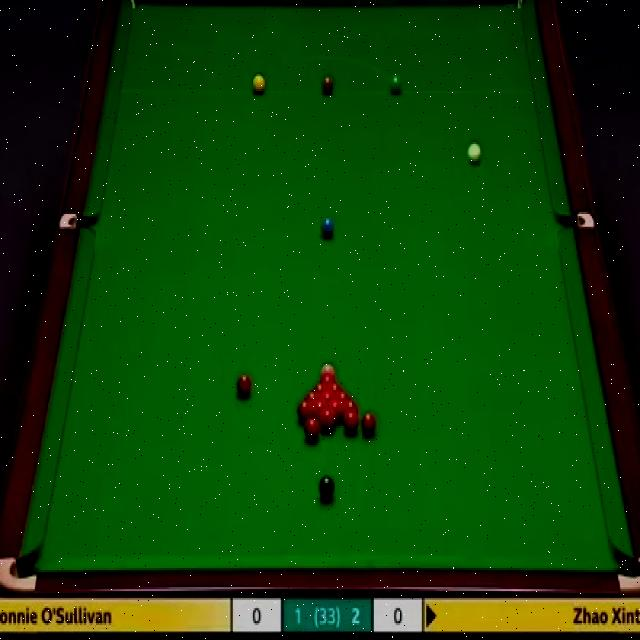black-ball: (318, 474, 336, 502)
blue-ball: (320, 215, 335, 239)
brown-ball: (320, 73, 335, 95)
green-ball: (387, 74, 403, 96)
pink-ball: (319, 363, 336, 378)
red-ball: (235, 374, 254, 400), (361, 412, 379, 439), (295, 399, 315, 420), (304, 416, 321, 439), (343, 411, 359, 434), (319, 409, 336, 430), (330, 400, 344, 420), (344, 399, 358, 418), (314, 399, 329, 416), (335, 391, 352, 400), (311, 384, 328, 393), (305, 391, 321, 400), (321, 392, 337, 401), (318, 376, 336, 384), (327, 383, 342, 392)
white-ball: (466, 140, 484, 169)
yellow-ball: (251, 72, 266, 94)
